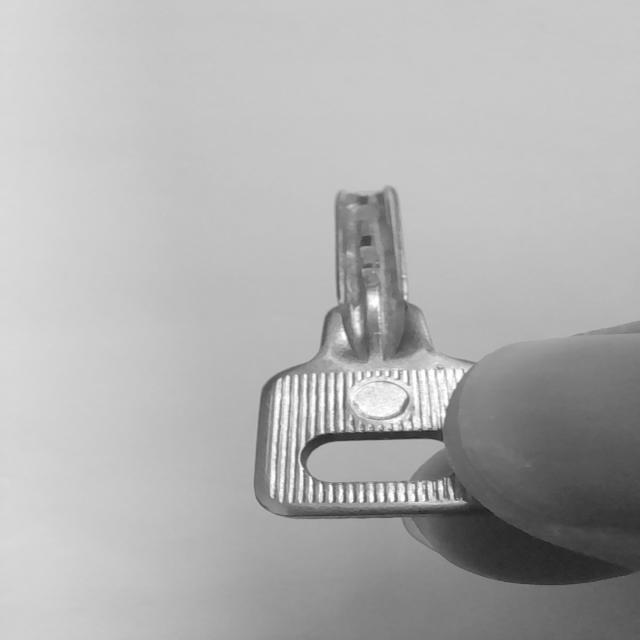KEY: (254, 186, 477, 519)
